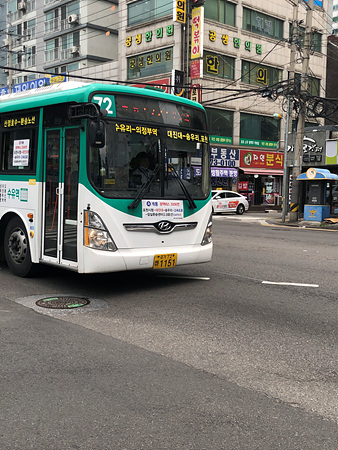entrance: (40, 128, 86, 266)
